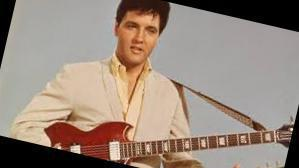Drunk: (125, 6, 156, 65)
